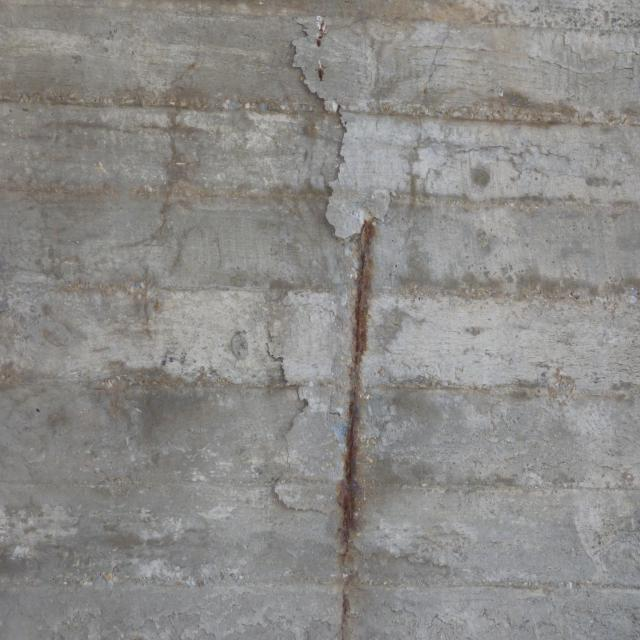corrosion: (328, 210, 396, 640)
